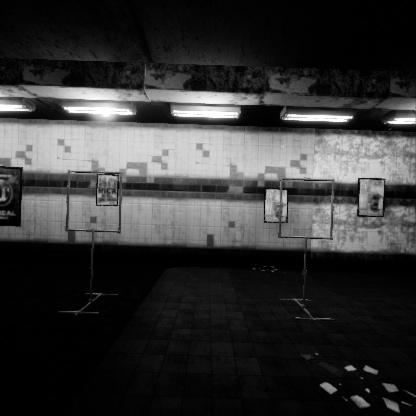gate: (66, 182, 127, 246), (279, 175, 339, 238)
